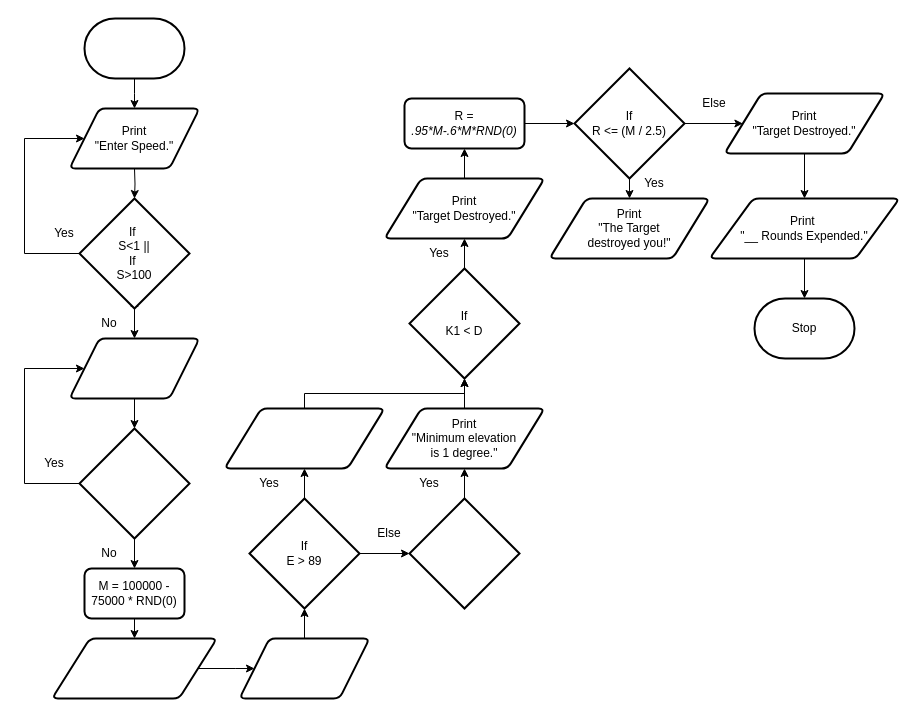
Some shapes in this 918 by 716 pixel diagram are drawn without their labels. The centre of each missing label's shape, as x and y in pixels:
If D<0 || If D>10000: point 134,483
If E < 1: point 464,553
Print "Elevation:": point 304,668
Print "Enter Distance.": point 134,368
Print "Maximum elevation is 89 degrees.": point 304,438
Print "The maximum range of your gun is (M) Yards.": point 134,668
Start: point 134,48
